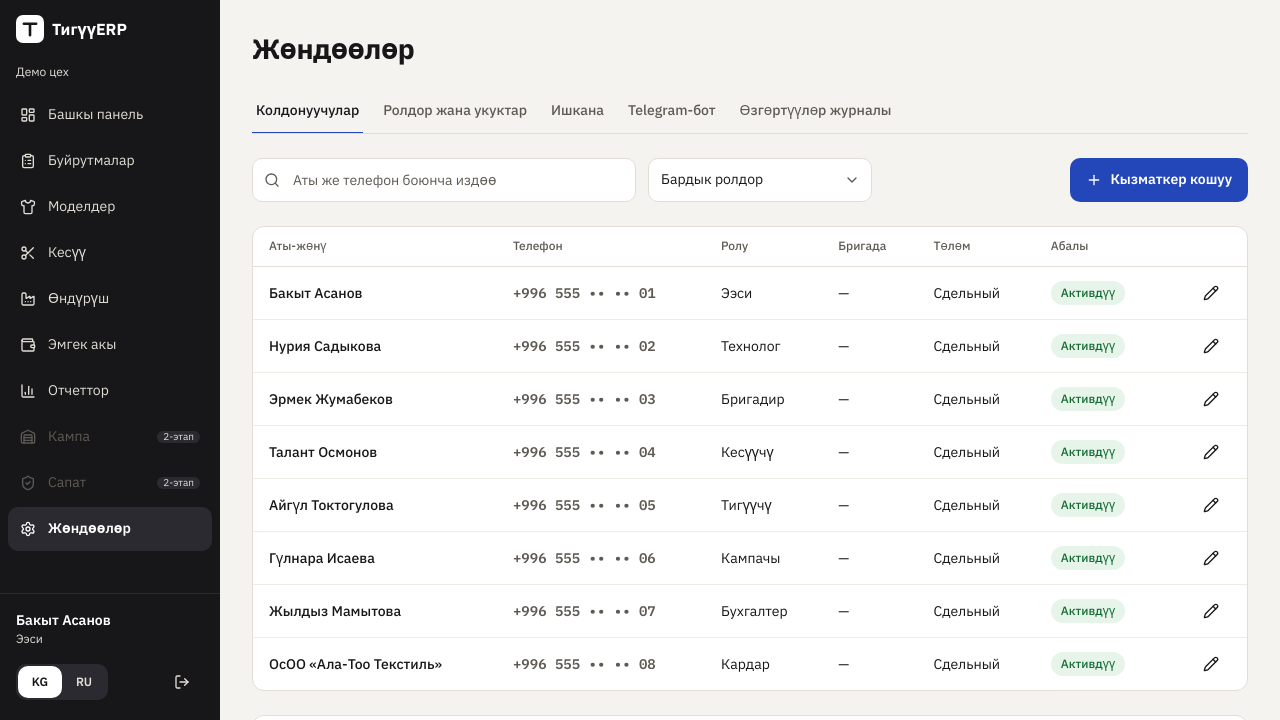
settings (2.10) › requires the salary amount for SALARY pay type
Expected: the text "Айгүл Токтогулова" is shown, [269,496,394,514]
Click the button "Кызматкер кошуу" at (1159, 180), box [1070,158,1248,202]
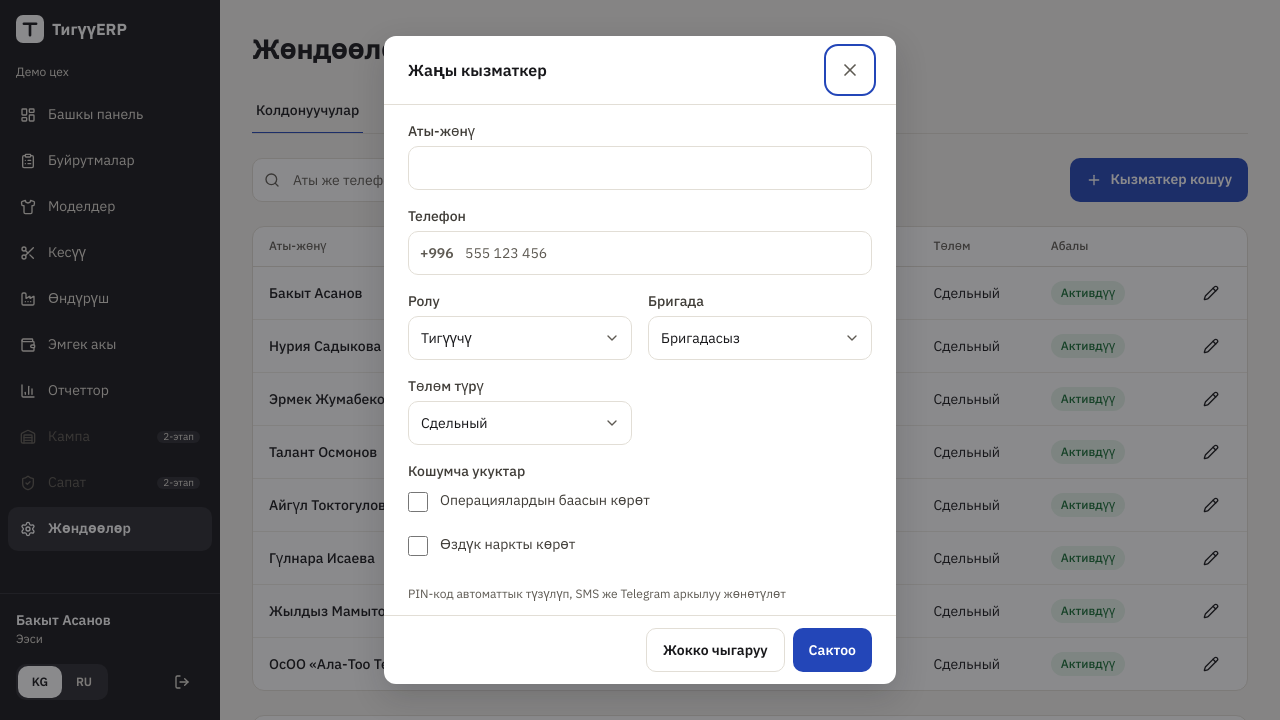
Type "Жылдыз" into the field labelled "Аты-жөнү" at (640, 168), box [408,146,872,190]
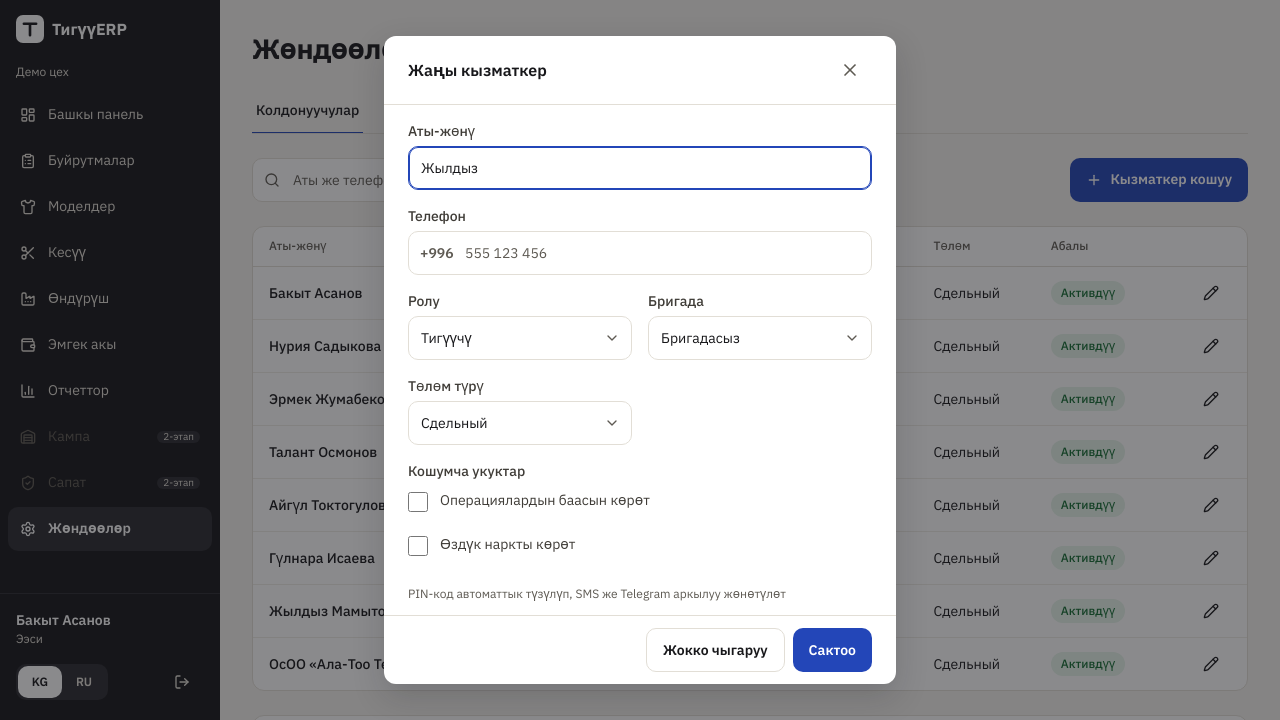
Type "700999888" into the field labelled "Телефон" at (640, 253), box [408,231,872,275]
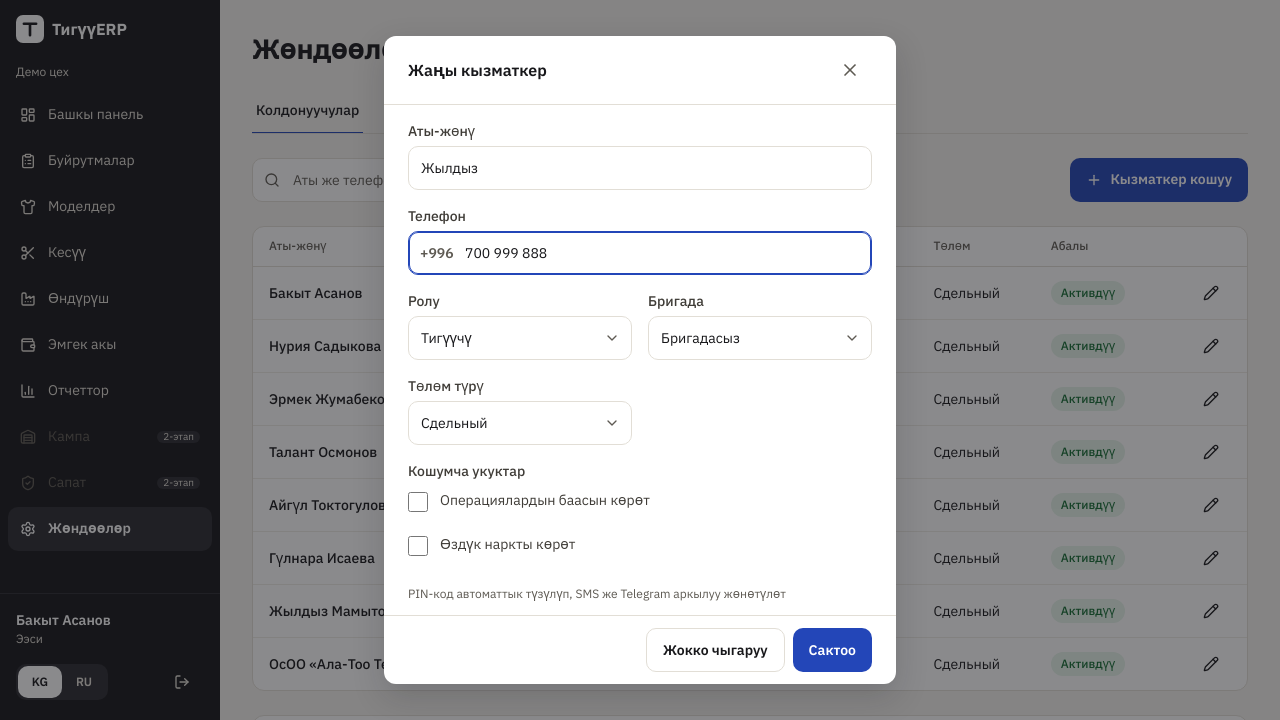
Select "Айлык маяна" in the dropdown labelled "Төлөм түрү" at (520, 423), box [408,401,632,445]
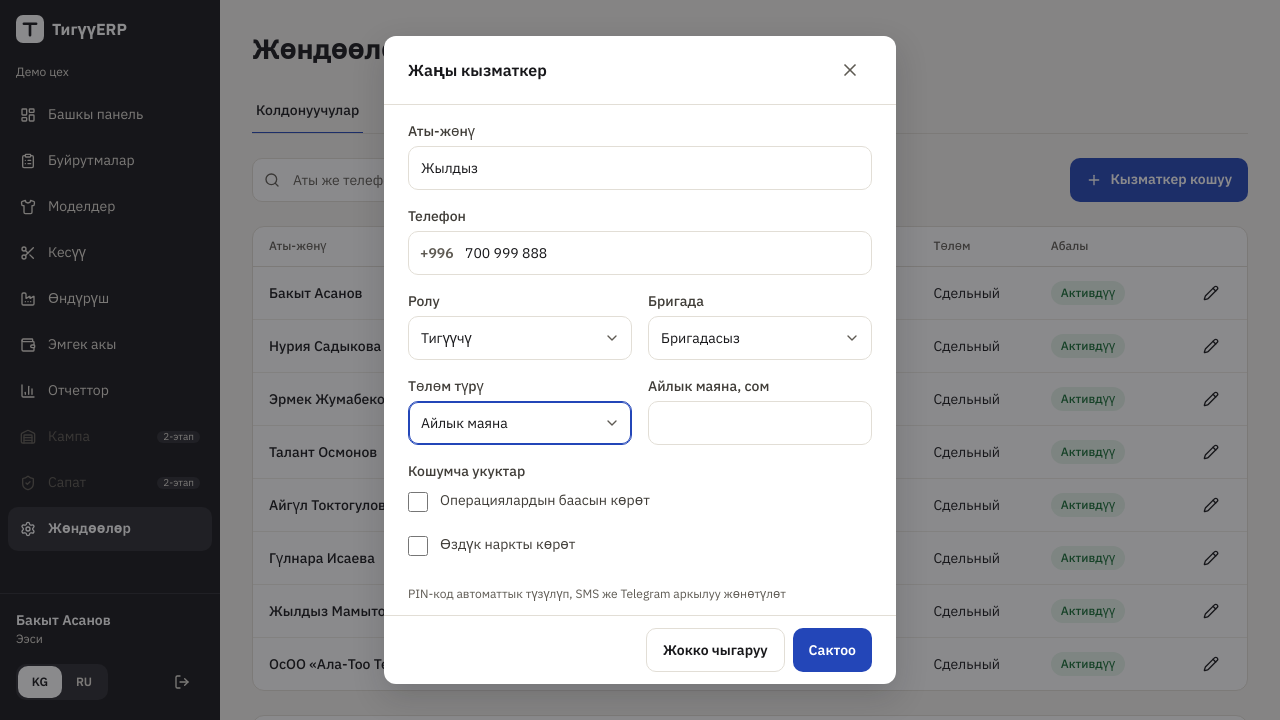
Click the button "Сактоо" at (832, 650), box [793,628,872,672]
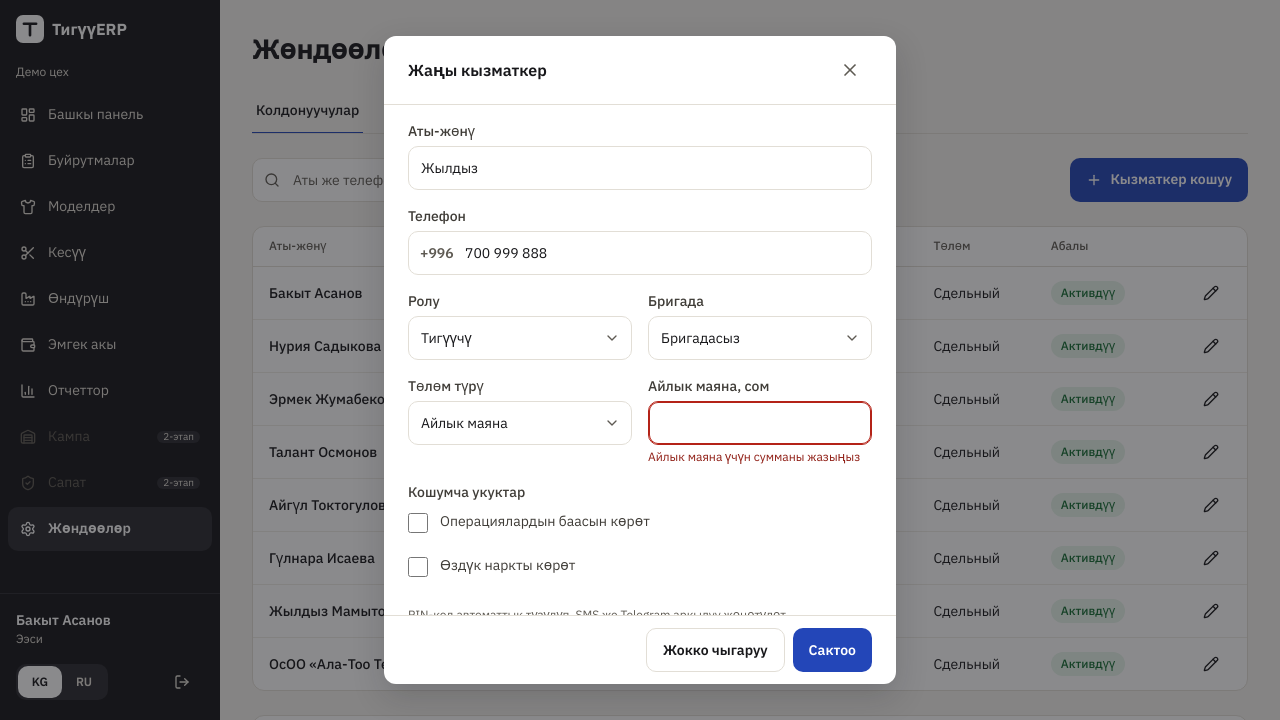
Expected: the text "Айлык маяна үчүн сумманы жазыңыз" is shown, [648,449,872,466]
